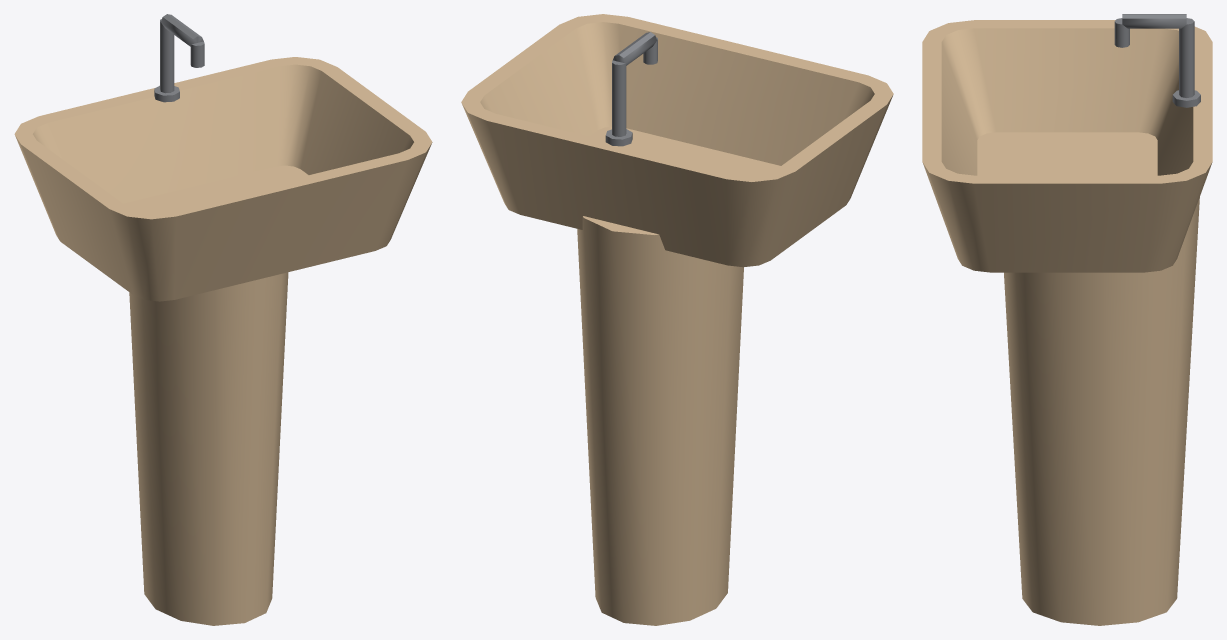
The model's file is sink.glb.
The picture shows the model from 3 angles, left to right: view 1: azimuth 30°, elevation 25°; view 2: azimuth 150°, elevation 25°; view 3: azimuth 270°, elevation 25°; orthographic projection. The views are drawn at different scales.
Visible parts, largest first — view 1: sink; view 2: sink; view 3: sink.
Boxes of the visible parts, x1,y1,x2,y2 form: sink: [14, 14, 432, 625]; sink: [461, 14, 893, 625]; sink: [922, 14, 1212, 625].
Bounding box in the file's own units: 0.6 × 1 × 0.45.
